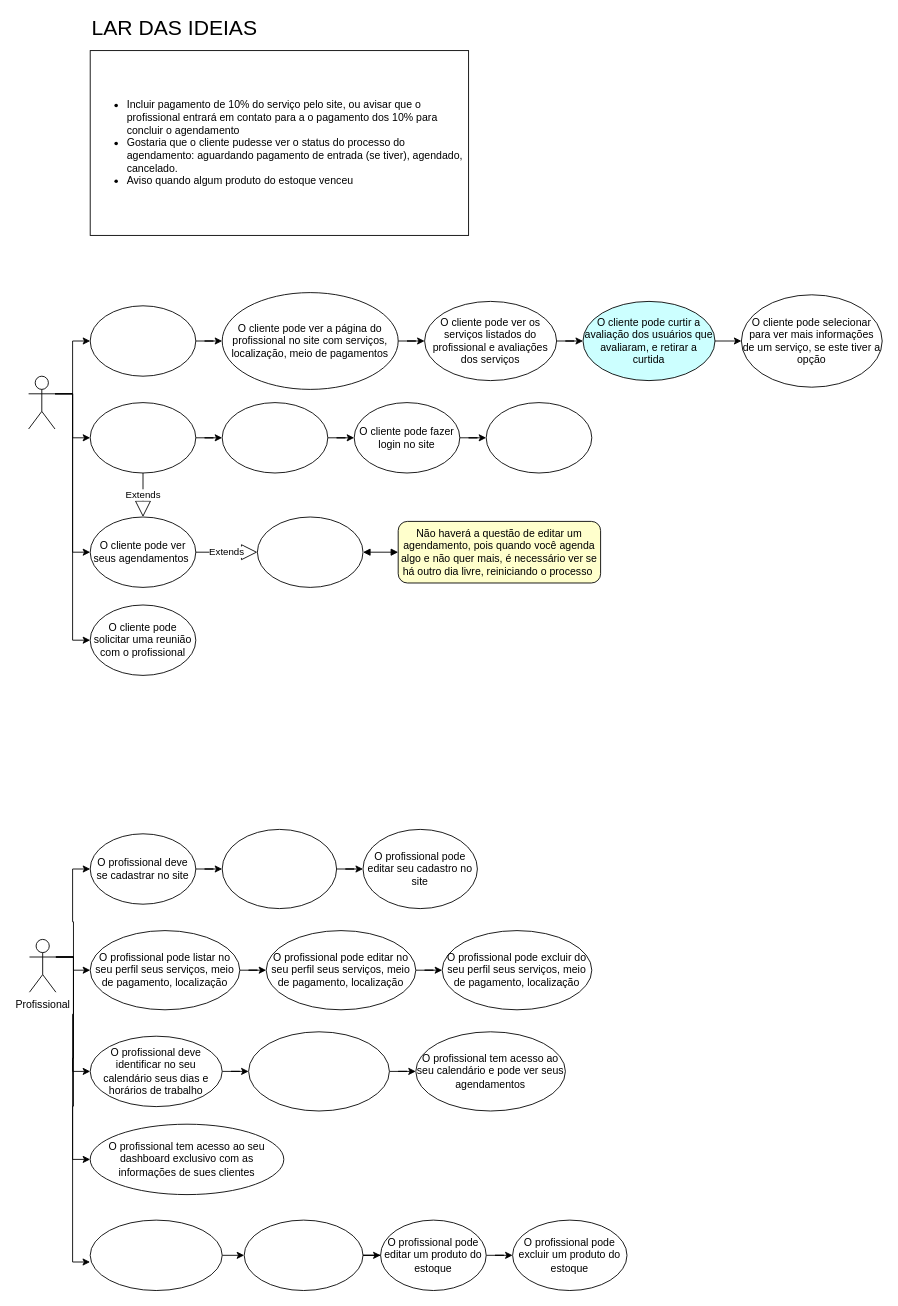
The diagram is 898 pixels wide and 1306 high, and some of its shapes have lost their labels. The centre of each missing label's shape, as x and y in pixels:
"Cliente" belongs at [41,402].
"O cliente pode acessar o site" belongs at [142,340].
"O cliente pode agendar um serviço" belongs at [142,437].
"O cliente pode cancelar um agendamento" belongs at [310,551].
"O cliente pode editar seu cadastro no site" belongs at [538,437].
"O profissional deve fazer login no site para acessar sua página, agendamentos" belongs at [279,869].
"O profissional pode cadastrar um estoque" belongs at [155,1255].
"O profissional pode cadastrar um ou mais produtos do estoque" belongs at [303,1255].
"O profissional pode editar no seu calendário seus dias e horários de trabalho" belongs at [318,1071].
"Para agendar um serviço, o cliente deve se cadastrar no site" belongs at [274,437].
